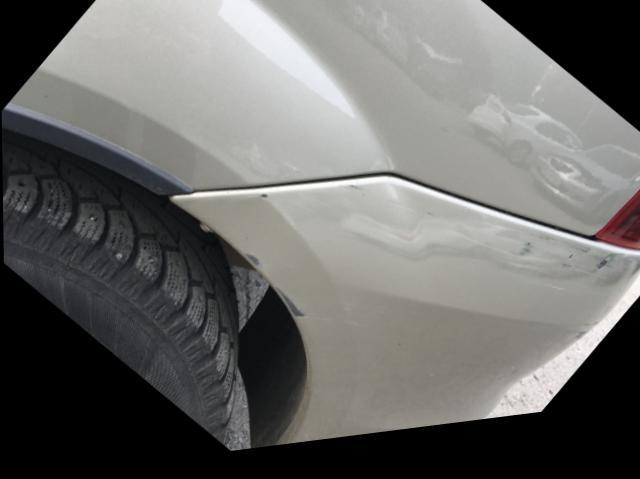scratch: (507, 242, 633, 295), (238, 258, 309, 331)
